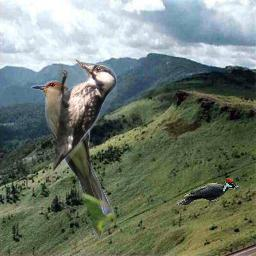Cuckoo: (31, 80, 115, 240)
Woodpecker: (53, 58, 117, 177), (176, 178, 241, 205)
